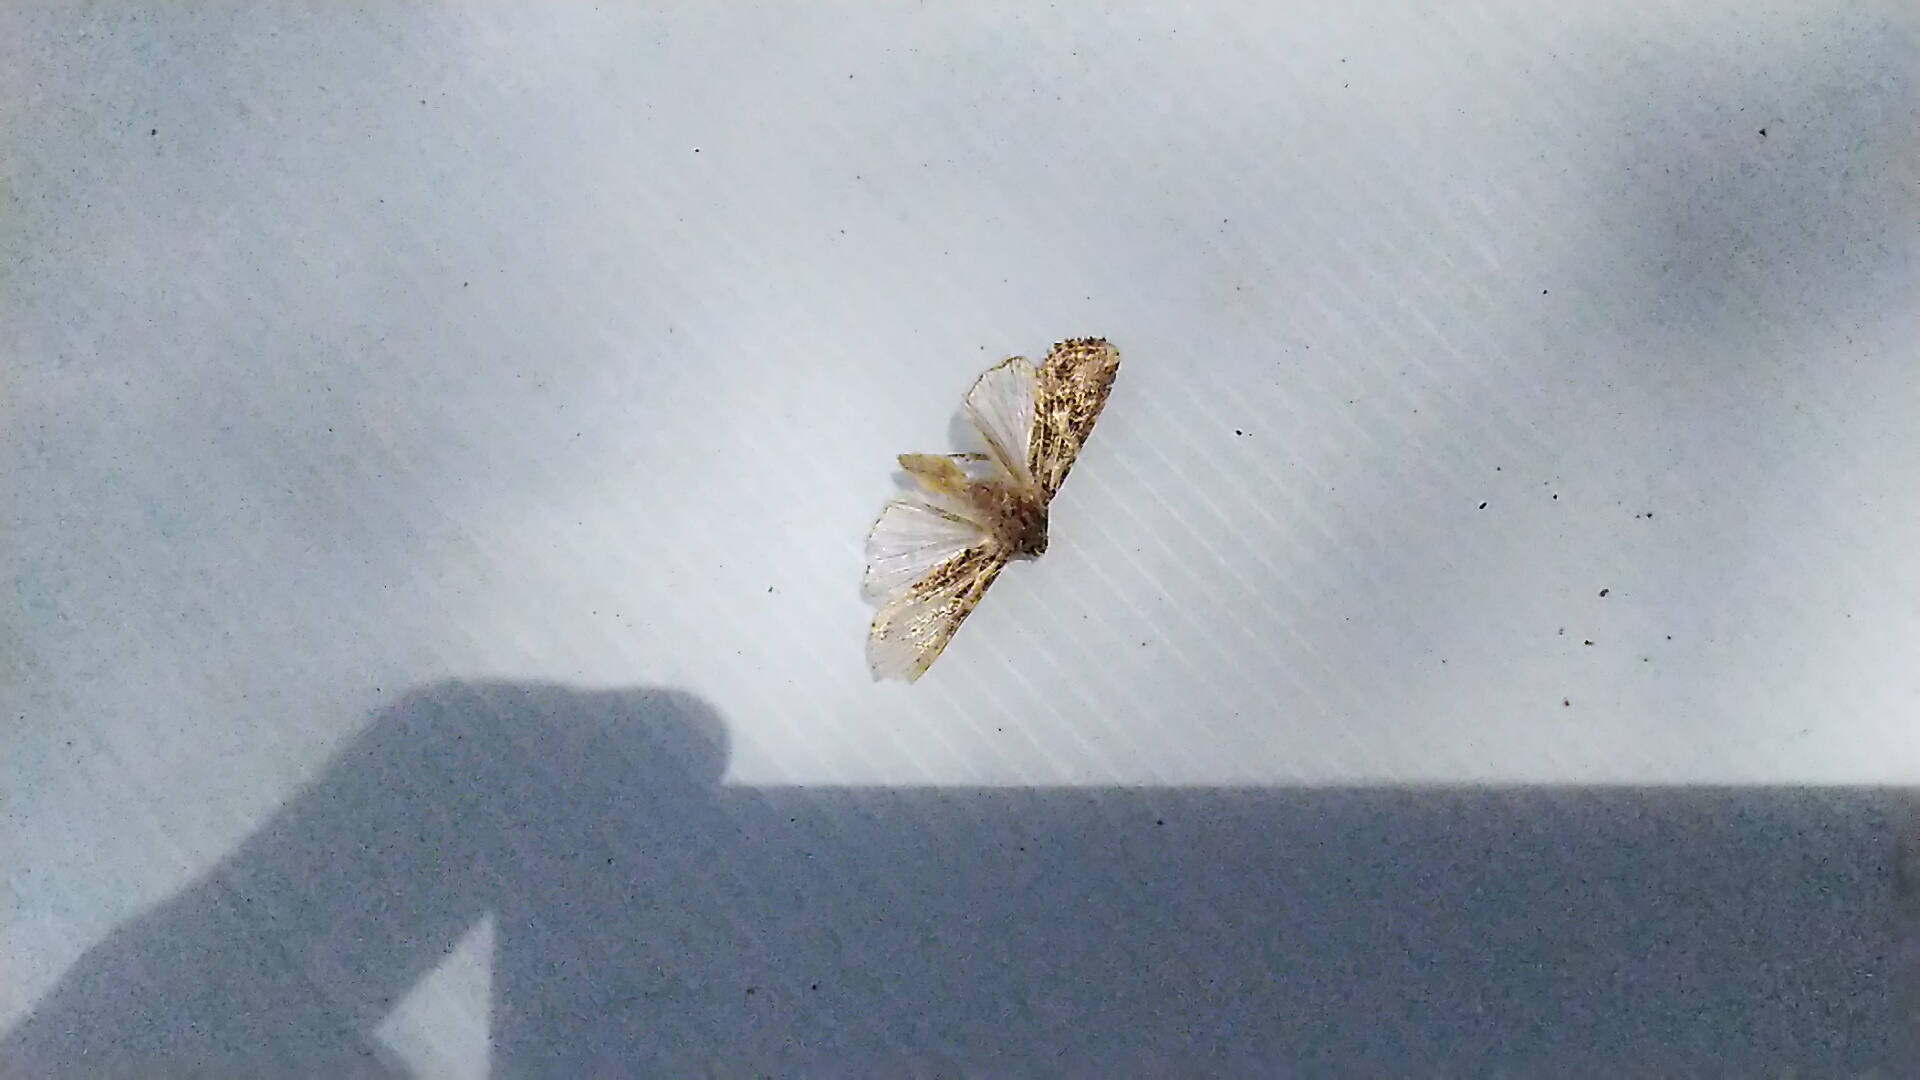INS-B: (849, 318, 1141, 686)
